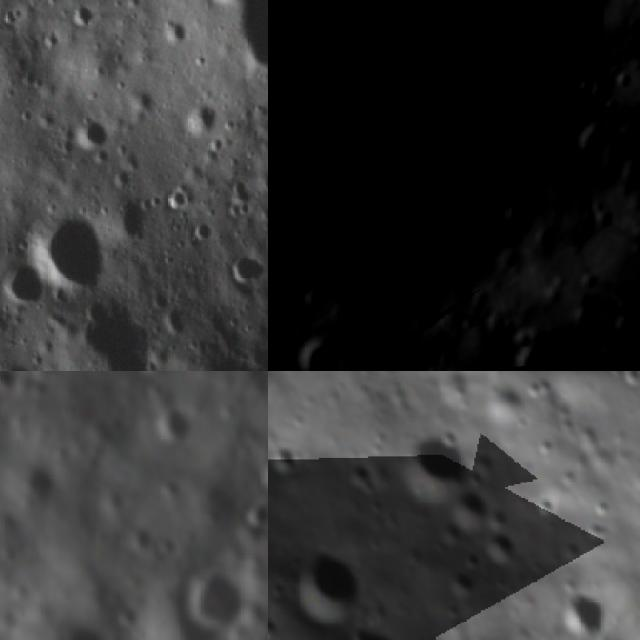crater: (268, 0, 577, 266), (30, 203, 120, 305), (283, 542, 379, 636), (392, 423, 472, 505), (192, 566, 246, 636), (443, 487, 499, 540), (67, 98, 116, 158), (469, 527, 520, 578), (290, 331, 350, 371), (507, 330, 556, 371), (268, 437, 306, 489), (569, 120, 609, 167), (522, 489, 562, 530), (161, 407, 205, 444), (332, 618, 406, 640), (502, 196, 538, 237), (611, 147, 640, 194), (303, 280, 338, 318), (572, 300, 606, 336), (539, 278, 573, 314), (585, 203, 619, 235), (610, 308, 640, 343), (568, 72, 599, 104), (268, 371, 284, 419), (616, 65, 640, 92), (268, 248, 290, 271), (460, 313, 477, 334), (421, 361, 450, 371)
